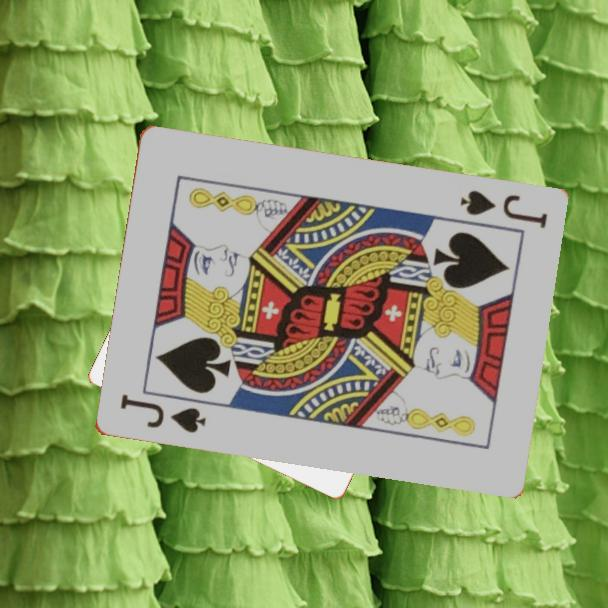s11: (116, 391, 209, 437), (456, 187, 550, 232)
